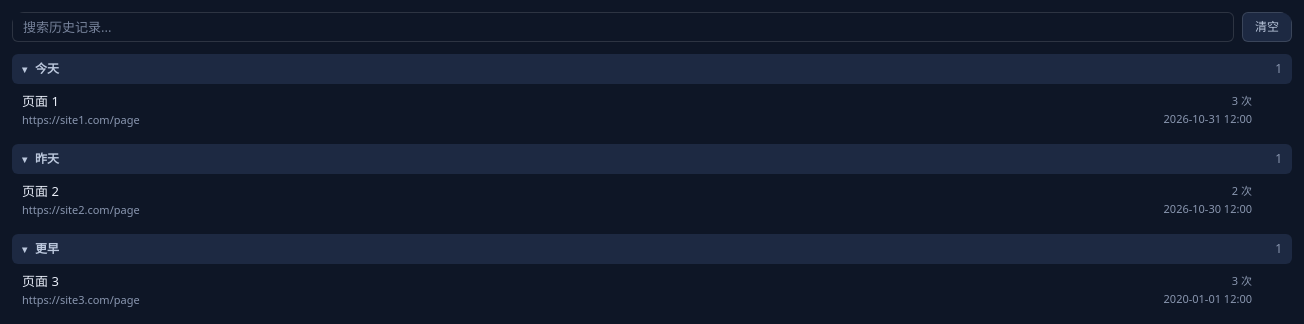
Test: HistoryDialog：搜索 › 带搜索词且无结果 →「没有匹配的历史记录」
Type "zzz" into the field with class "history-search" at point(623, 27), box [12,12,1234,42]
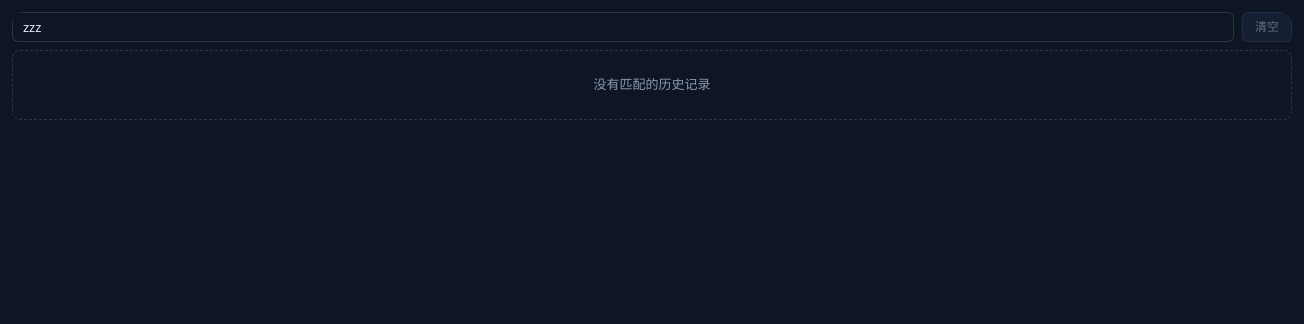
Check: the text with class "empty" reads "没有匹配的历史记录", box [594,75,710,93]
